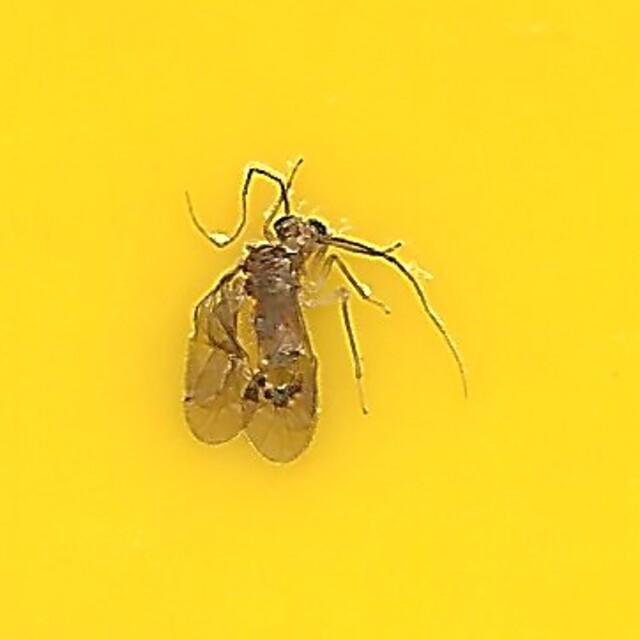Nematocera: (177, 172, 463, 468)
